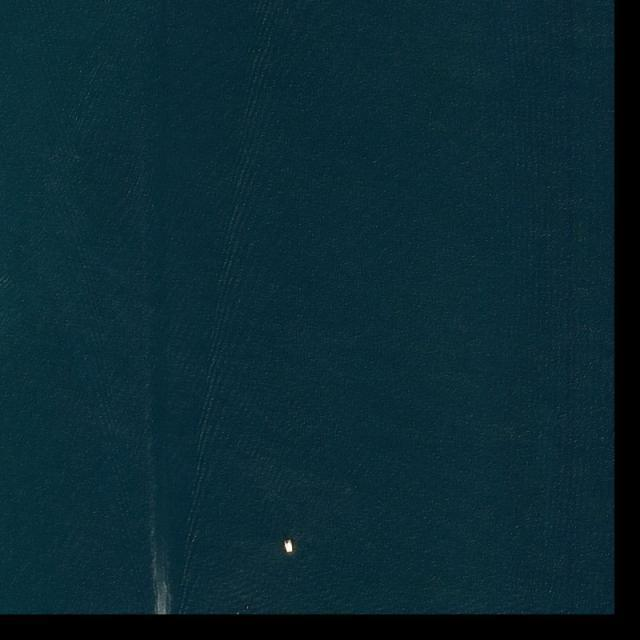ship: (284, 539, 293, 553)
